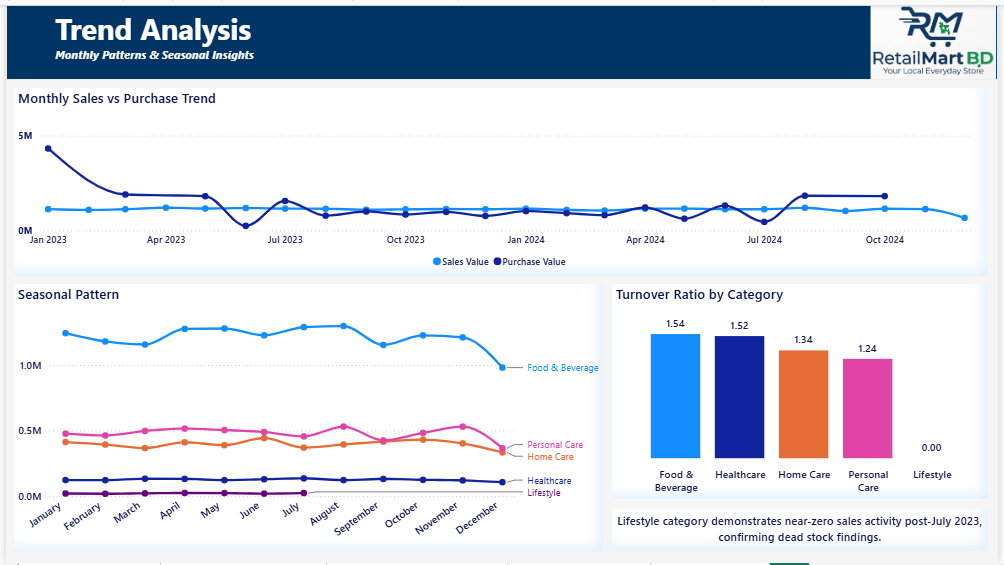

This screenshot's page, from the dashboard's own definition file:
{"tool":"powerbi","page":{"name":"Trend Analysis","canvas":[1280,720],"ordinal":4},"visuals":[{"type":"textbox","box":[0,0,1279.8,96.4],"z":0},{"type":"image","box":[1114,0,165.8,96.4],"z":1000},{"type":"lineChart","title":"Monthly Sales vs Purchase Trend","fields":{"Y":["_Measures.Monthly Sales Value","_Measures.Monthly Purchase Value"],"Category":["dim_date.full_date.Variation.Date Hierarchy.Year","dim_date.full_date.Variation.Date Hierarchy.Month"]},"box":[10.3,107,1256.5,241.9],"z":2000},{"type":"lineChart","title":"Seasonal Pattern","fields":{"Category":["dim_date.month_name"],"Y":["_Measures.Monthly Sales Value"],"Series":["dim_product.category"]},"box":[9.9,360,759.7,345.8],"z":3000},{"type":"clusteredColumnChart","title":"Turnover Ratio by Category","fields":{"Category":["dim_product.category"],"Y":["_Measures.Avg Turnover Ratio"]},"box":[782.4,360,484.7,277.8],"z":4000},{"type":"textbox","box":[782.4,650.6,484.7,53.9],"z":5000}]}

Visuals, with their boxes in screenshot pixels (x1, y1, x2, y2), scaled from the page's 1280x720 canvas onto the 1004x565 screenshot:
textbox: region(0, 0, 1003, 76)
image: region(874, 0, 1003, 76)
"Monthly Sales vs Purchase Trend" lineChart: region(8, 84, 994, 274)
"Seasonal Pattern" lineChart: region(8, 282, 604, 554)
"Turnover Ratio by Category" clusteredColumnChart: region(614, 282, 994, 500)
textbox: region(614, 511, 994, 553)
